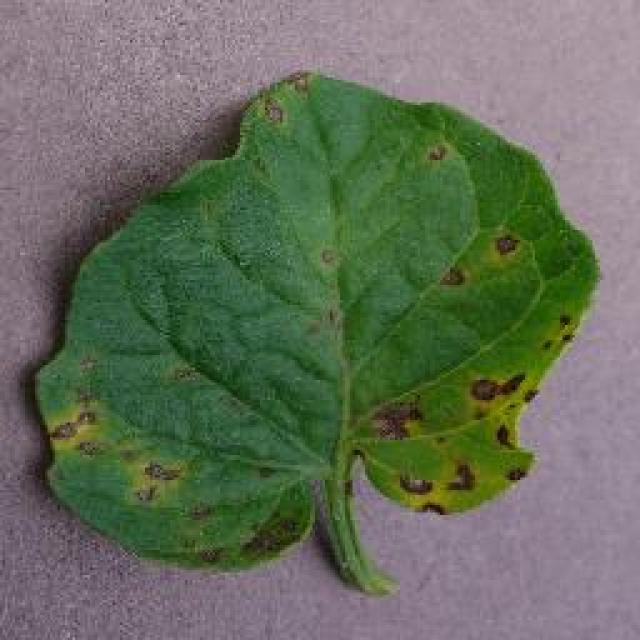Tomato___Septoria_leaf_spot: (38, 72, 598, 592)
